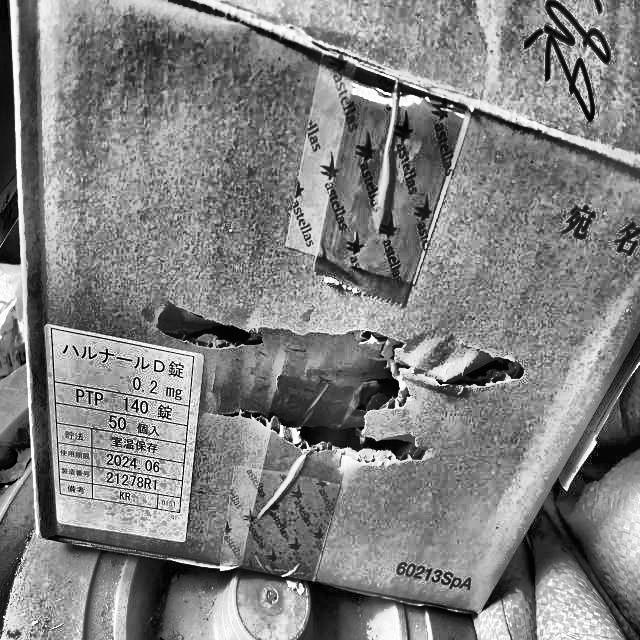box: (3, 0, 639, 627)
hole: (226, 329, 435, 473), (147, 299, 265, 353), (450, 341, 523, 399)
